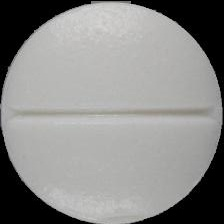55289-330: (0, 0, 224, 224)
